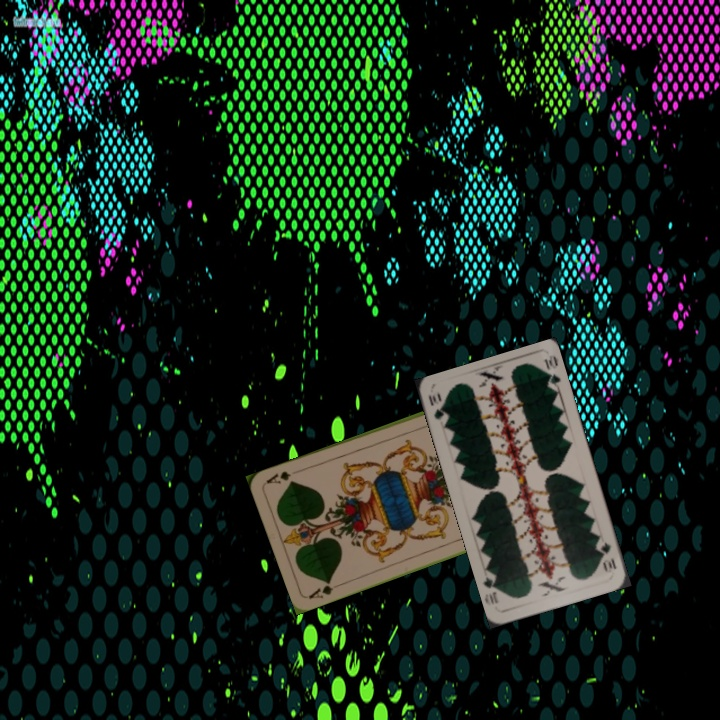G10: (595, 538, 619, 574), (424, 389, 448, 422)
GA: (305, 577, 344, 602)
